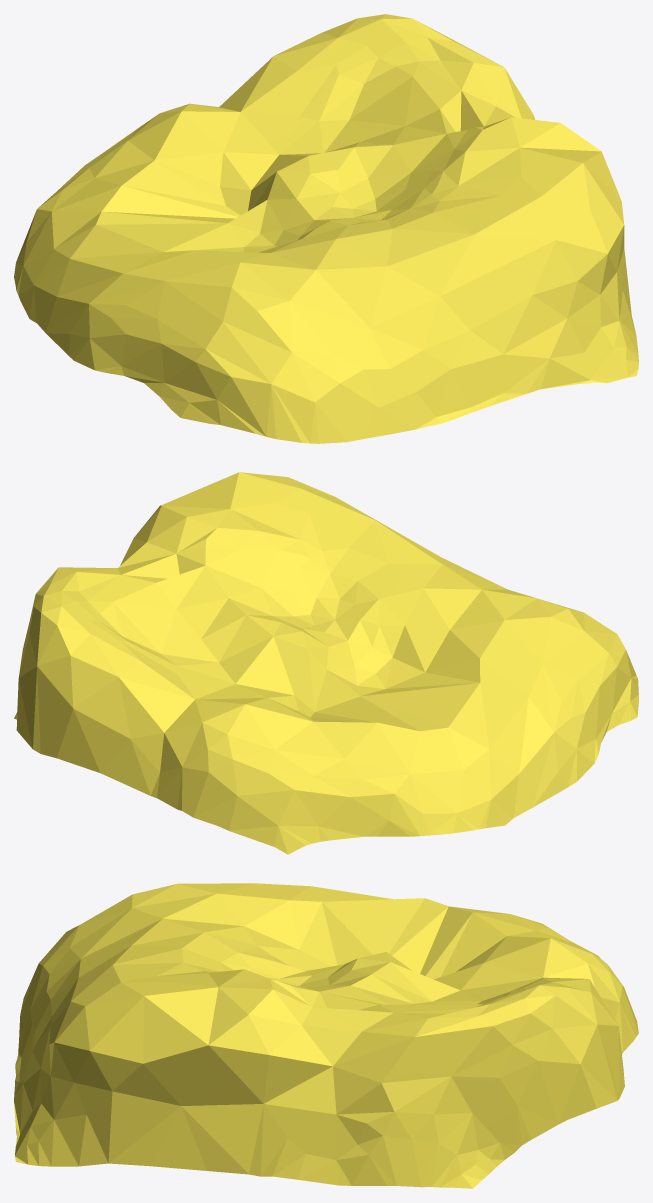
Rendered from ground_033.fbx.
3 renders of one model, top to bottom at view 1: azimuth 30°, elevation 25°; view 2: azimuth 150°, elevation 25°; view 3: azimuth 270°, elevation 25°, orthographic. The views are drawn at different scales.
Parts seen in each view (by area): view 1: ground.033; view 2: ground.033; view 3: ground.033.
Boxes of the visible parts, x1=… form: ground.033: x1=14, y1=14, x2=638, y2=443; ground.033: x1=14, y1=472, x2=638, y2=854; ground.033: x1=14, y1=883, x2=638, y2=1188.
Size of the model in its own units: 2343 by 748 by 2399.
Materials: 1 (1 with a texture image).
